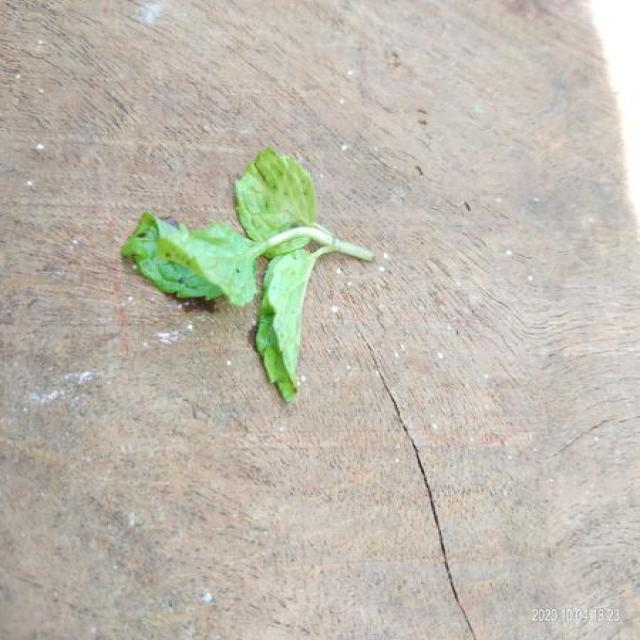mint: (122, 149, 375, 401)
